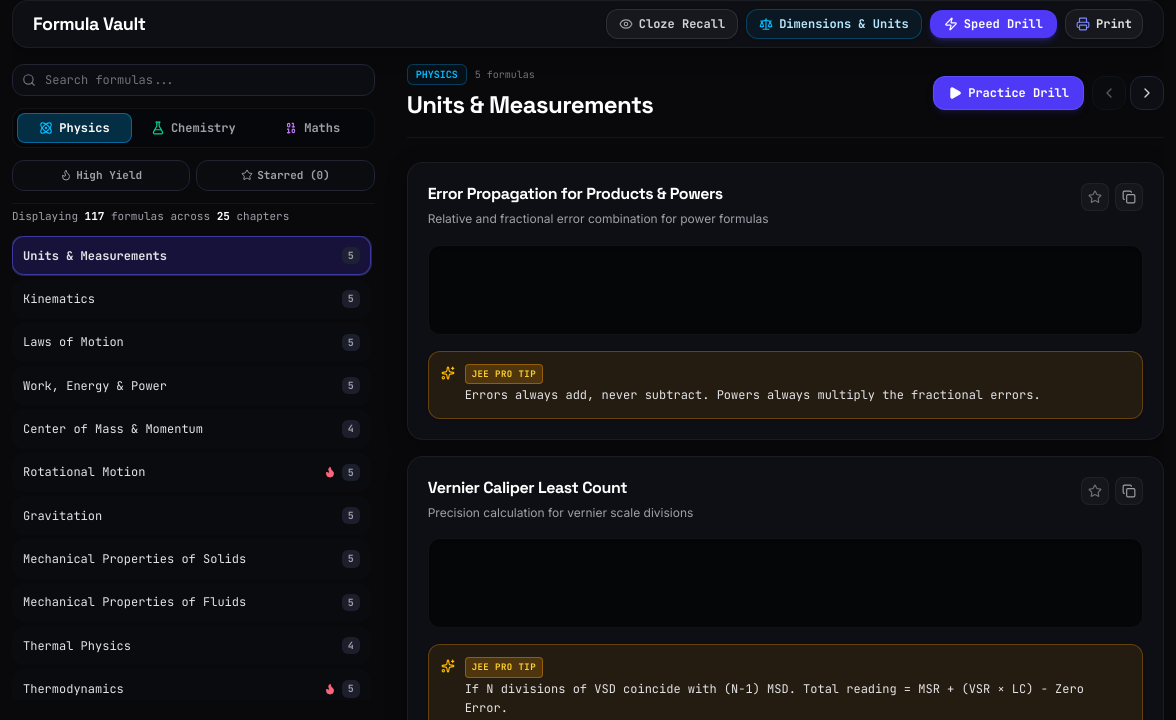
it: FormulaVaultPage Feature View (Magnitude 5.1) › filters formulas when typing in the search input
The width and height of the screenshot is (1176, 720).
Type "Kinematics" into the field with placeholder "Search formulas...". click: (193, 80)
box: x1=12 y1=64 x2=375 y2=96
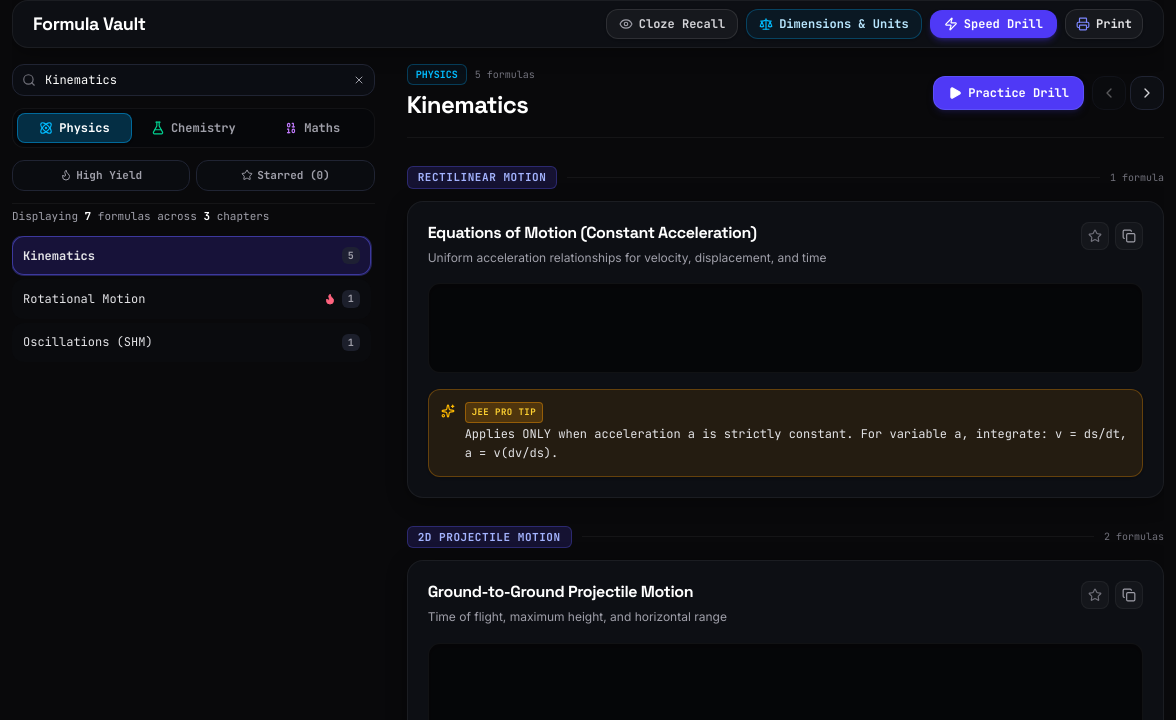
Check: the heading "Kinematics" is shown, box x1=407 y1=89 x2=535 y2=121
# Now search something nonexistent
Replace the text in the field with placeholder "Search formulas..." with "xyzrandomnonexistentformula". click: (193, 80)
box: x1=12 y1=64 x2=375 y2=96
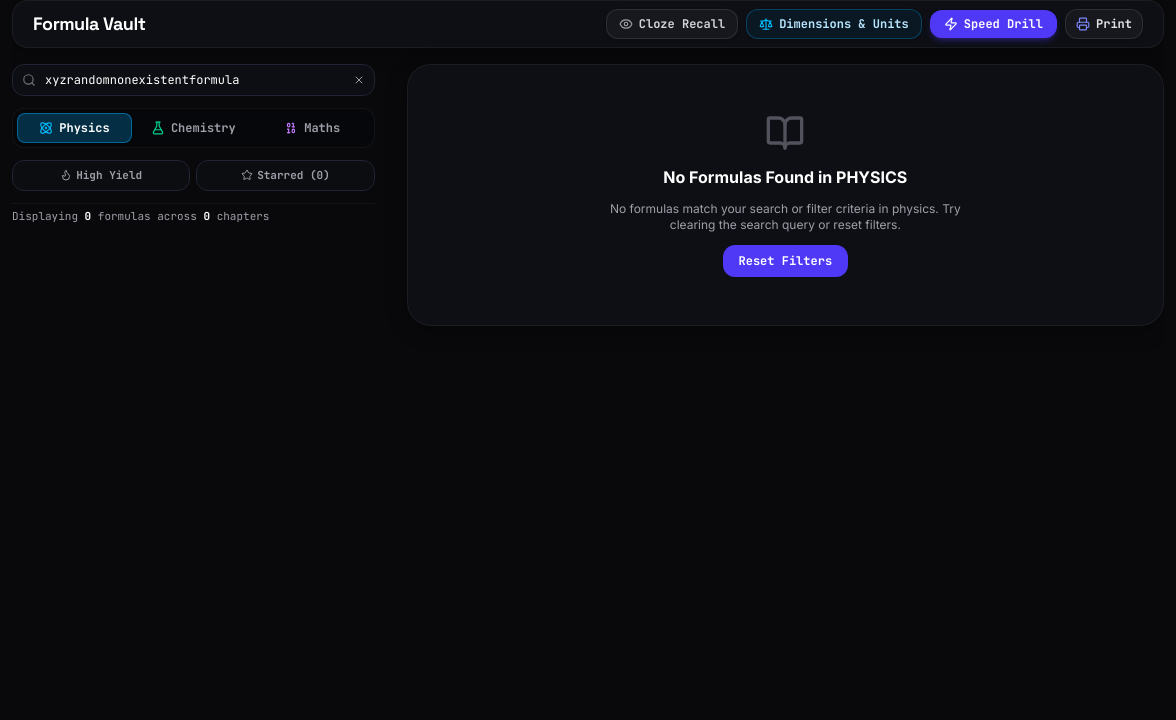
Check: the heading "No Formulas Found in PHYSICS" is shown, box x1=663 y1=167 x2=907 y2=187
# Click Reset Filters
Click the button "Reset Filters". click: (785, 261)
box: x1=722 y1=245 x2=848 y2=277
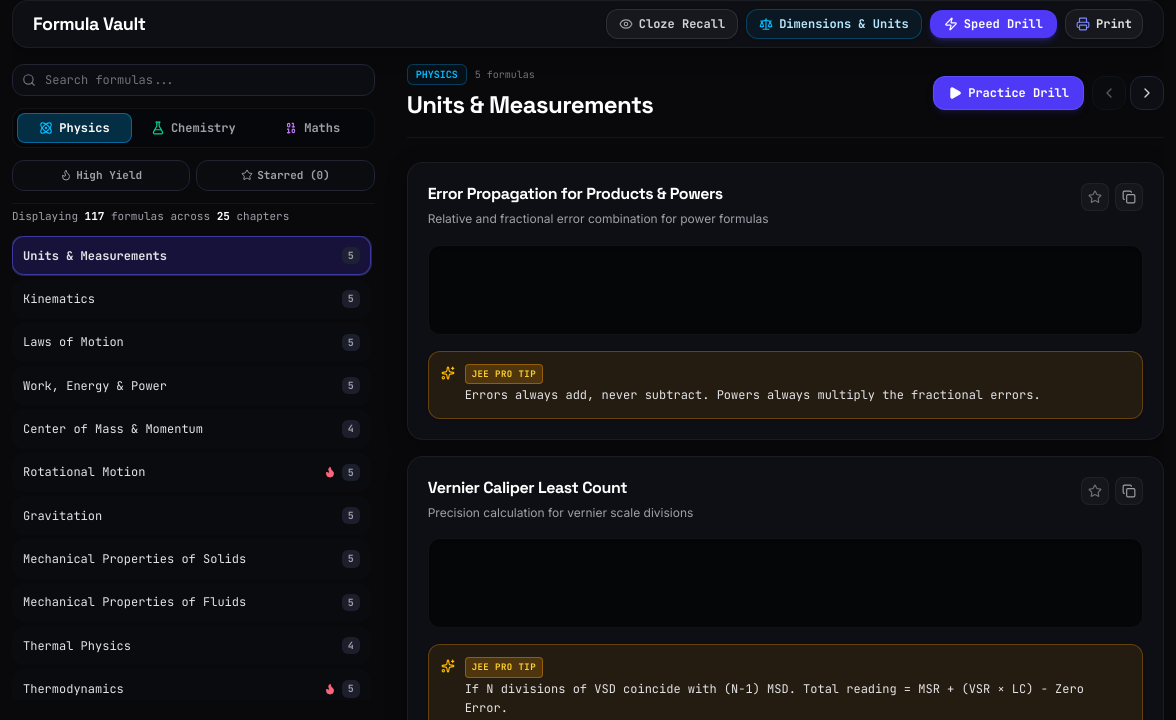
Check: the heading "No Formulas Found" is gone
